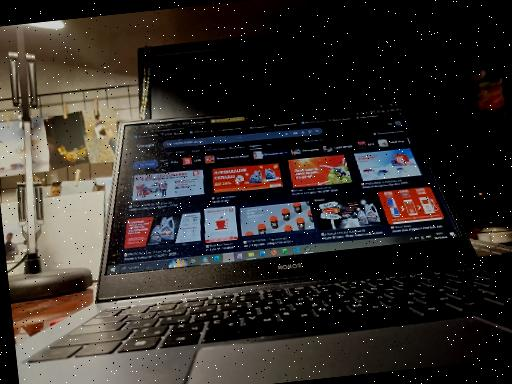google: (109, 108, 431, 264)
